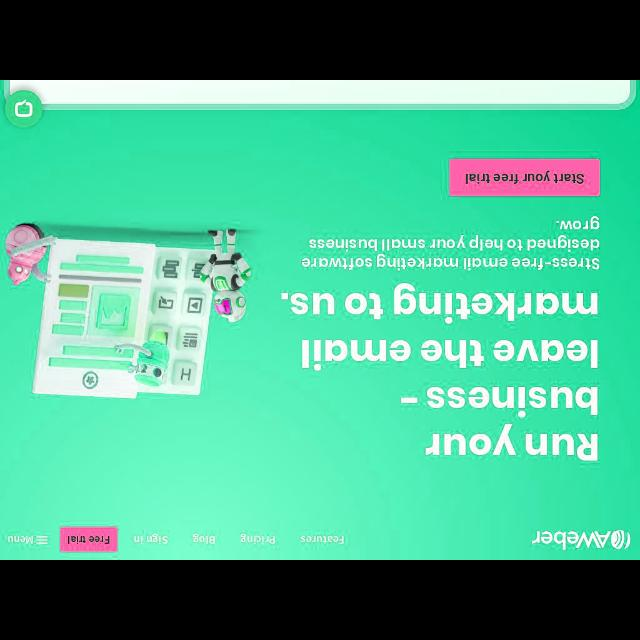button: (4, 92, 42, 128)
icon: (15, 98, 33, 116), (37, 536, 47, 546)
image: (3, 217, 250, 399), (531, 526, 631, 552)
multitab: (127, 526, 349, 552)
text: (280, 281, 600, 464), (302, 217, 598, 270), (465, 172, 583, 184), (300, 532, 346, 546), (67, 534, 109, 544), (240, 533, 274, 545), (134, 535, 168, 545), (192, 532, 215, 546), (8, 534, 32, 544)
textbutton: (450, 159, 600, 197), (60, 527, 118, 553)
